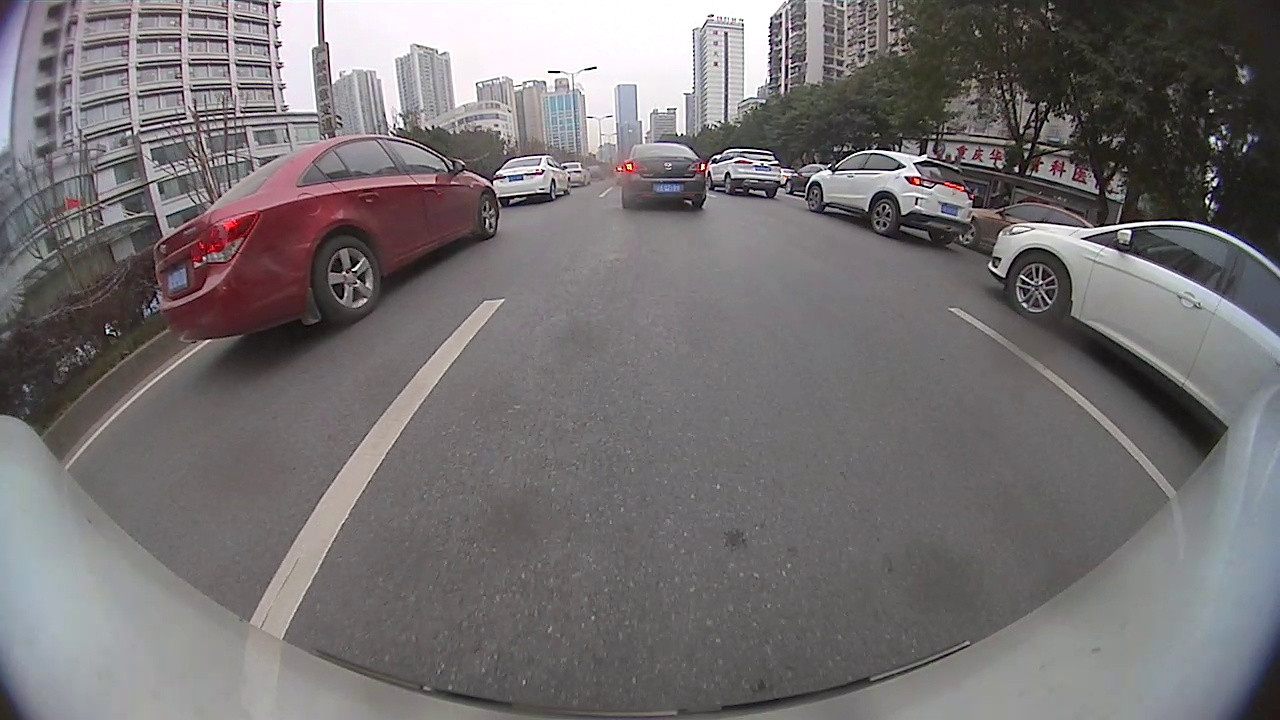car: (150, 134, 498, 343), (989, 216, 1279, 424), (807, 148, 978, 246), (968, 198, 1092, 251), (623, 143, 707, 211), (493, 153, 573, 205), (712, 150, 786, 200)
front: (1005, 250, 1073, 327), (478, 193, 498, 238), (954, 215, 979, 248), (804, 183, 824, 214)
rear: (312, 234, 380, 325), (868, 198, 899, 237)
